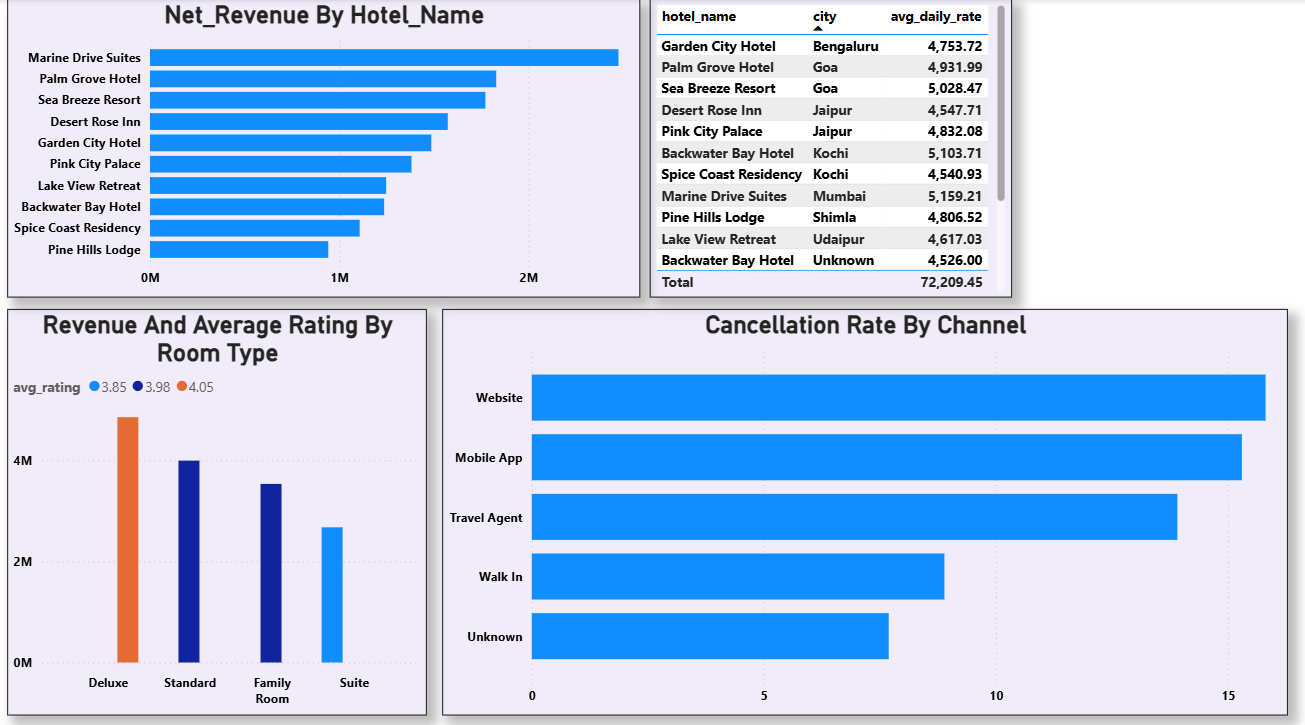

What the dashboard file says about the page in this screenshot:
{"tool":"powerbi","page":{"name":"Hotels_Rooms_&_Channels","canvas":[1280,720],"ordinal":1},"visuals":[{"type":"clusteredBarChart","title":"Net_Revenue By Hotel_Name","fields":{"Category":["gold_hotel_summary.hotel_name"],"Y":["Sum(gold_hotel_summary.net_revenue)"]},"box":[11,0,618.9,292.3],"z":0},{"type":"tableEx","title":"Net_Revenue By Hotel_Name","fields":{"Values":["gold_hotel_summary.hotel_name","gold_hotel_summary.city","Sum(gold_hotel_summary.avg_daily_rate)"]},"box":[639.5,0,354,292.3],"z":1000},{"type":"clusteredColumnChart","title":" Revenue And Average Rating By Room Type","fields":{"Category":["gold_room_type_summary.room_type"],"Y":["Sum(gold_room_type_summary.net_revenue)"],"Series":["gold_room_type_summary.avg_rating"]},"box":[11,303.3,410.3,397.9],"z":2000},{"type":"clusteredBarChart","title":"Cancellation Rate By Channel","fields":{"Category":["gold_channel_summary.booking_channel"],"Y":["Sum(gold_channel_summary.cancellation_rate_pct)"]},"box":[436.4,303.3,827.4,397.9],"z":3000}]}

Visuals, with their boxes in screenshot pixels (x1, y1, x2, y2), scaled from the page's 1280x720 canvas onto the 1305x725 screenshot:
"Net_Revenue By Hotel_Name" clusteredBarChart: rect(11, 0, 642, 294)
"Net_Revenue By Hotel_Name" tableEx: rect(652, 0, 1013, 294)
" Revenue And Average Rating By Room Type" clusteredColumnChart: rect(11, 305, 430, 706)
"Cancellation Rate By Channel" clusteredBarChart: rect(445, 305, 1288, 706)
